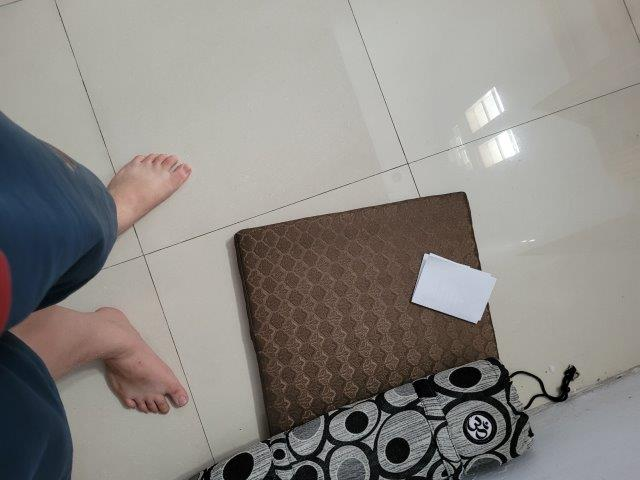kertas: (412, 250, 495, 324)
